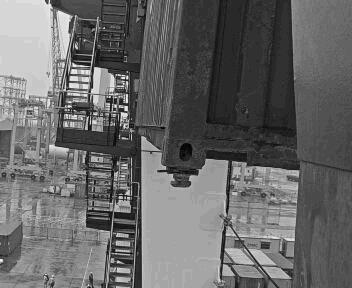twist_lock_1: (183, 164, 228, 196)
